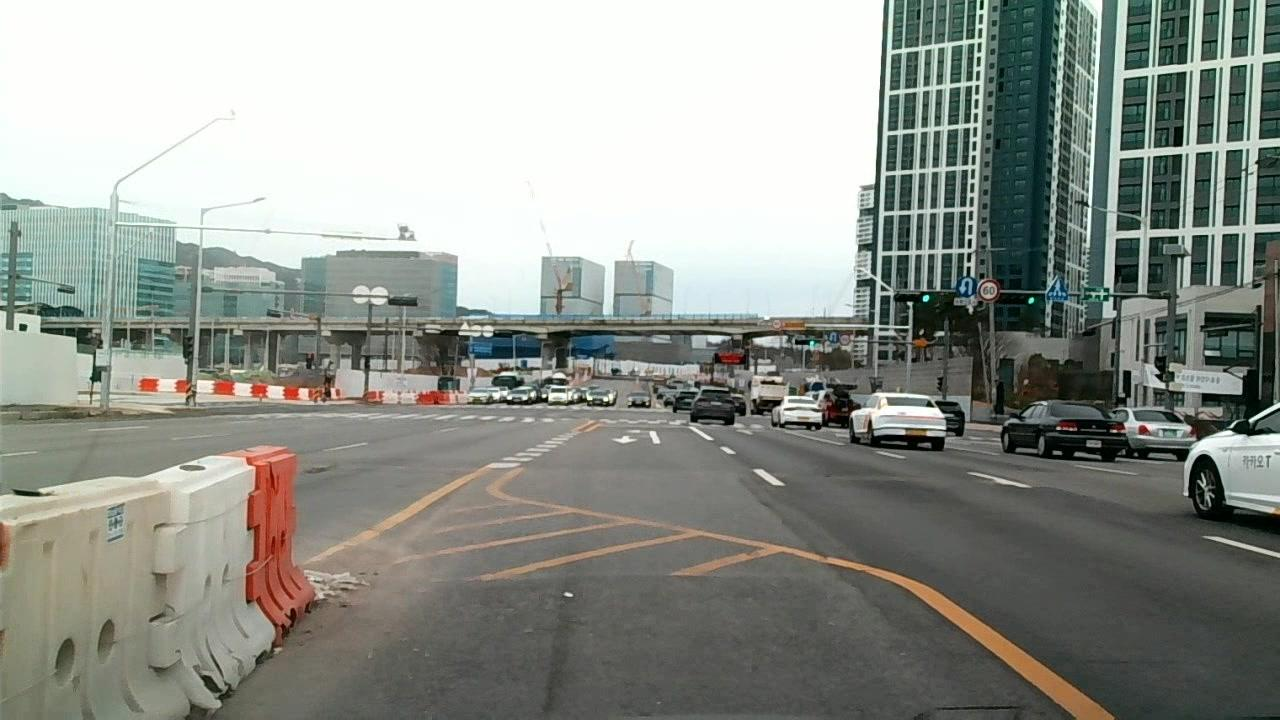vcrack: (735, 474, 795, 529), (832, 561, 880, 606)
